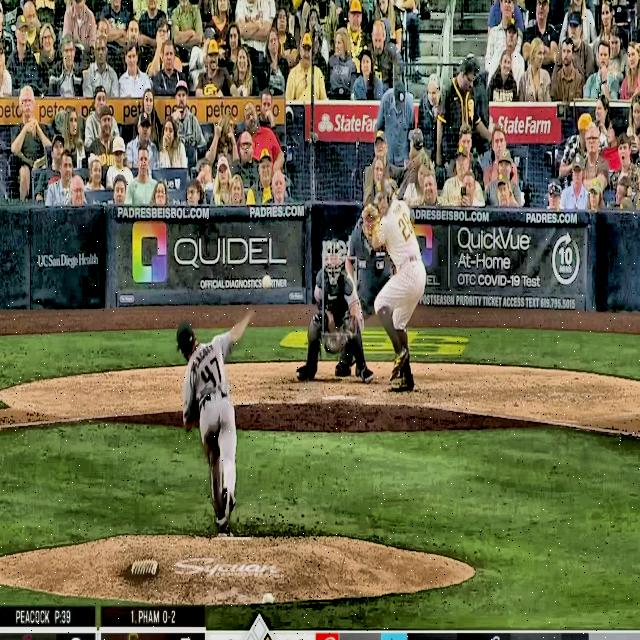baseball: (262, 274, 271, 290)
